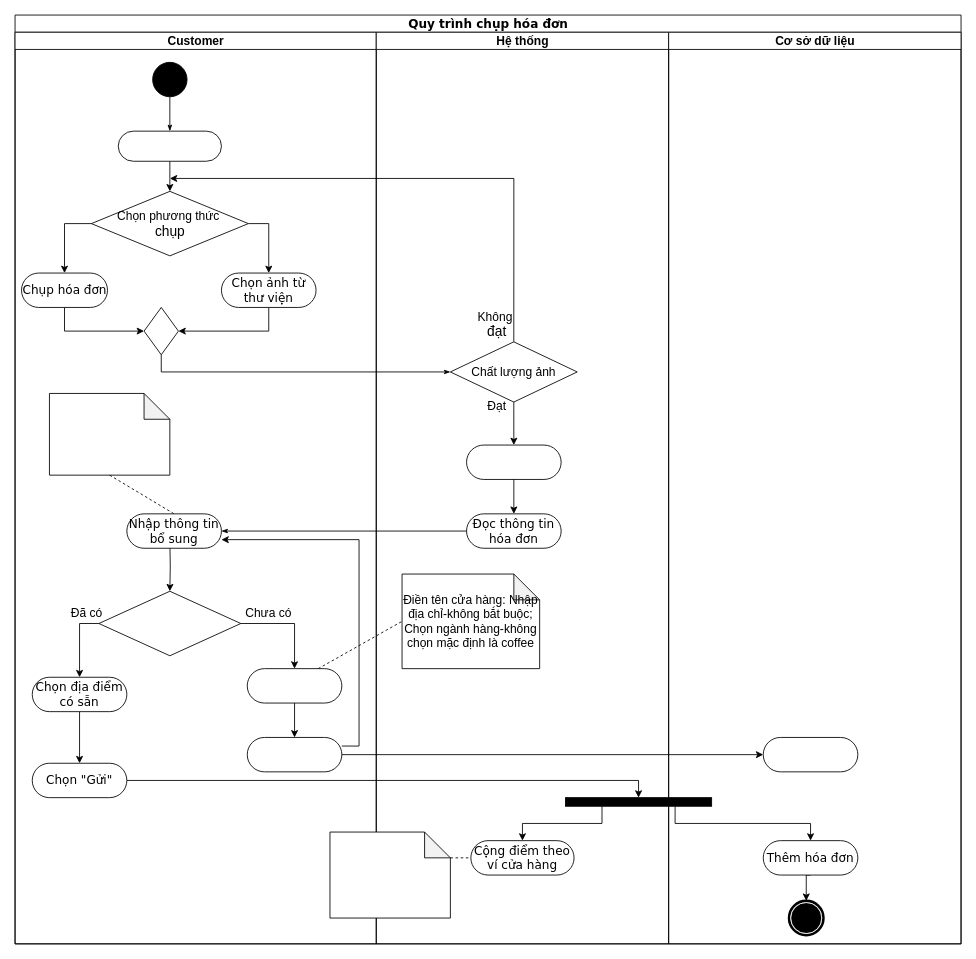
Image size: 976x959. Some labels were removed from this diagram. Here are the shapes that lost their labels. From the top down, the centre of each, then its label:
(x=169, y=145): Chọn "Chụp bill"
(x=109, y=434): Nhập thông tin cửa hàng
(x=513, y=461): Nhận ảnh hóa đơn
(x=169, y=623): Kiểm tra địa điểm cửa hàng tồn tại
(x=294, y=685): Chọn "Tạo mới"
(x=294, y=754): Chọn "Tạo địa điểm"
(x=810, y=754): Thêm địa điểm
(x=389, y=874): Khách hàng nhận được thông báo qua app hoặc email
